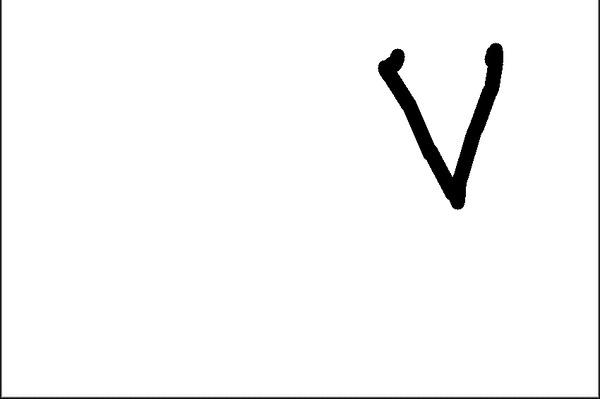V: (370, 36, 516, 212)
